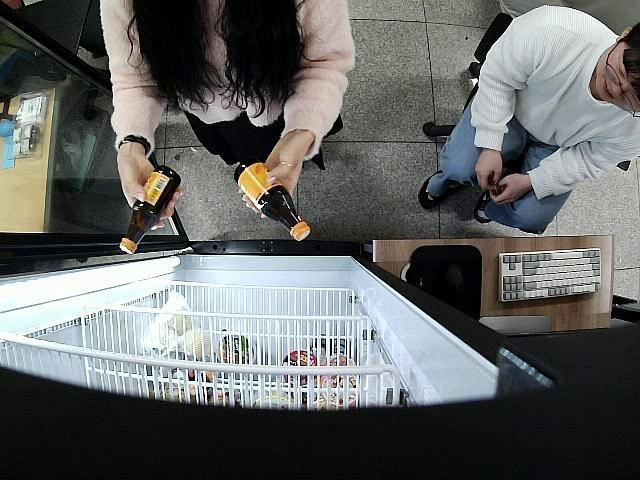17_vita500: (234, 155, 312, 240), (120, 164, 180, 255)
